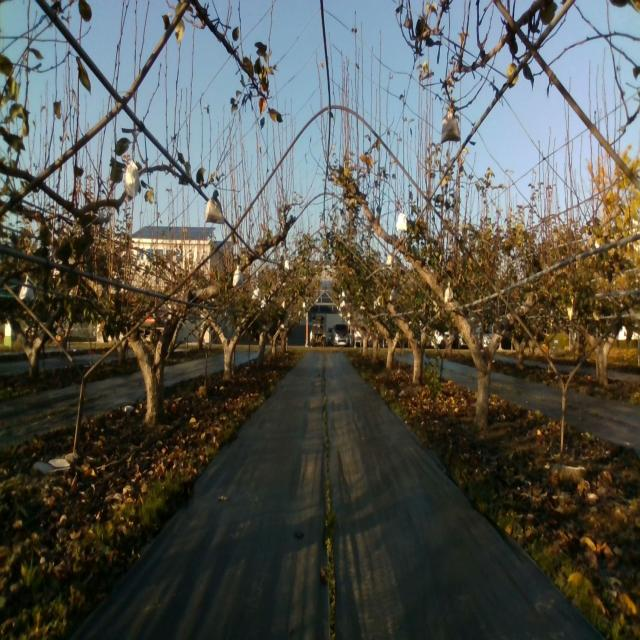pearbags: (440, 110, 461, 144), (205, 190, 225, 225), (123, 159, 140, 196), (233, 266, 245, 287), (396, 212, 408, 231)
